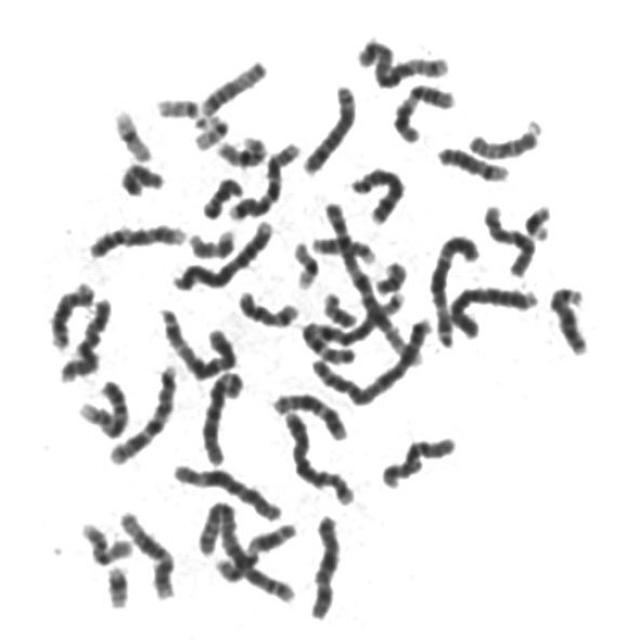A1: (316, 191, 428, 368), (298, 284, 408, 365)
A2: (306, 309, 434, 408), (193, 493, 298, 606)
A3: (422, 224, 485, 349), (153, 299, 242, 382)
B4: (167, 213, 278, 293), (442, 276, 542, 342)
B5: (278, 401, 358, 507), (350, 29, 454, 88)
C10: (375, 428, 460, 491), (478, 194, 540, 278)
C11: (210, 515, 300, 583), (387, 75, 460, 144)
C12: (114, 502, 180, 602), (266, 384, 351, 442)
C6: (166, 455, 286, 523), (196, 362, 250, 467)
C7: (103, 358, 181, 466), (224, 133, 305, 222)
C8: (296, 76, 360, 176), (345, 158, 409, 226)
C9: (82, 214, 191, 260), (73, 371, 132, 440)
D13: (44, 276, 99, 351), (544, 277, 594, 357)
D14: (432, 136, 513, 183), (236, 285, 300, 333)
D15: (194, 51, 271, 118), (464, 114, 546, 161)
E16: (75, 514, 137, 566), (210, 126, 272, 168)
E17: (307, 226, 380, 265), (183, 220, 240, 262)
E18: (196, 168, 248, 221), (114, 153, 169, 198)
F19: (108, 100, 156, 164), (286, 233, 324, 291)
F20: (369, 252, 410, 296), (319, 290, 361, 332)
G21: (518, 196, 558, 242), (100, 557, 133, 610)
G22: (187, 106, 232, 151), (151, 88, 204, 120)
X: (55, 291, 115, 385), (304, 507, 345, 622)
